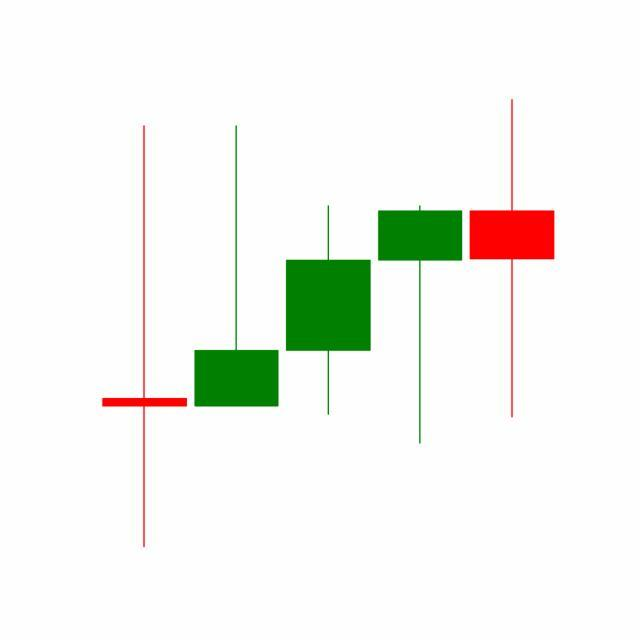Dragonfly Doji: (374, 203, 468, 448)
